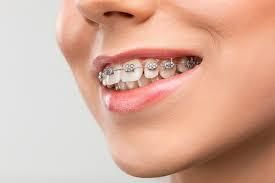Braces: (95, 60, 200, 81)
